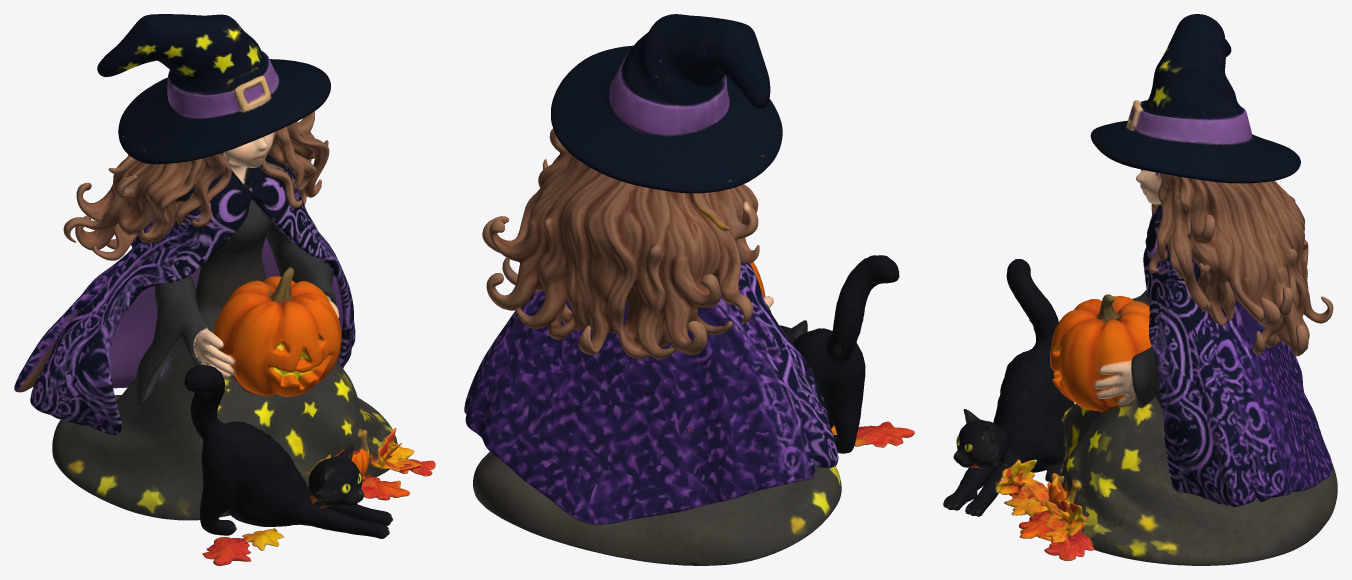
Rendered from girl.glb.
The picture shows the model from 3 angles, left to right: view 1: azimuth 30°, elevation 25°; view 2: azimuth 150°, elevation 25°; view 3: azimuth 270°, elevation 25°; orthographic projection. The views are drawn at different scales.
Parts seen in each view (by area): view 1: Mesh_0; view 2: Mesh_0; view 3: Mesh_0.
Boxes of the visible parts, box(x1,y1,x2,y2) form: Mesh_0: box(14, 14, 435, 565); Mesh_0: box(464, 14, 914, 565); Mesh_0: box(943, 14, 1337, 565).
Bounding box in the file's own units: 1.45 × 1.9 × 1.53.
Materials: 1 (1 with a texture image).
